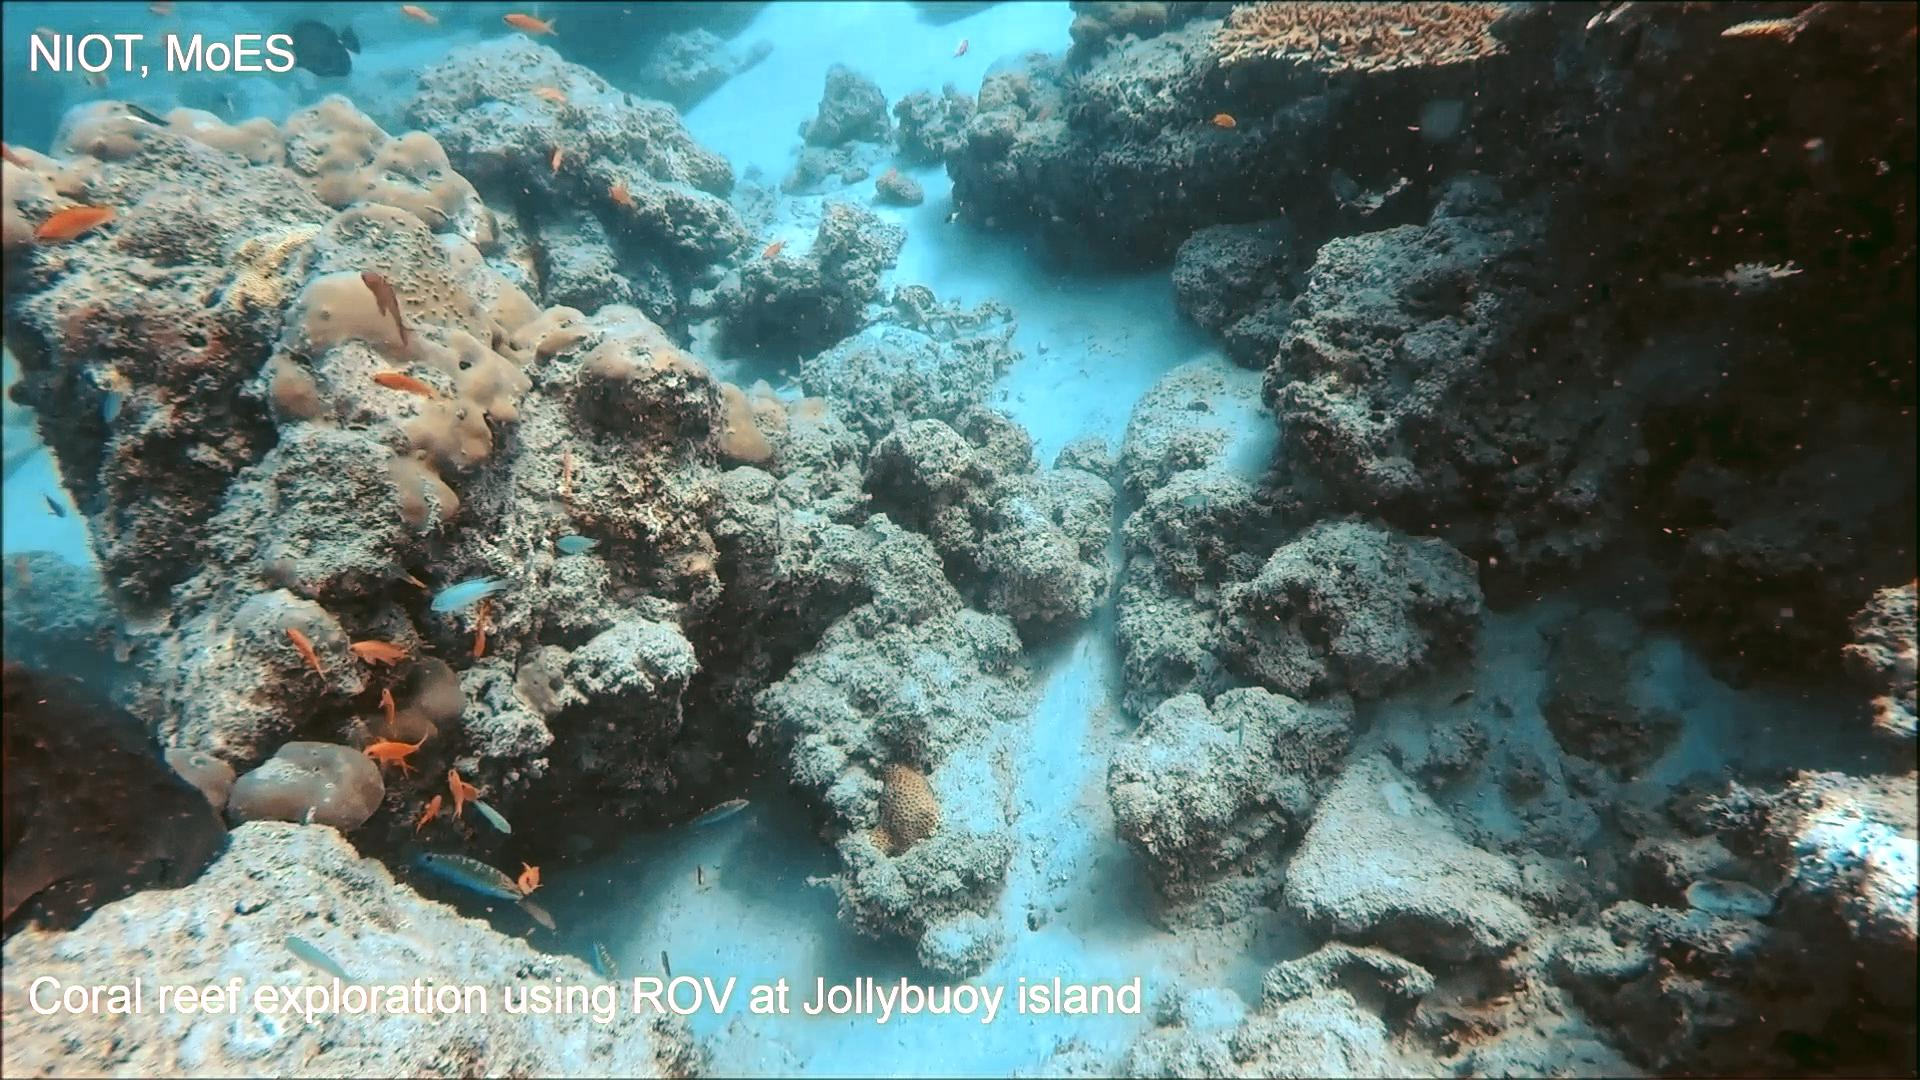Porites-Porites pukoensis: (244, 91, 605, 520)
